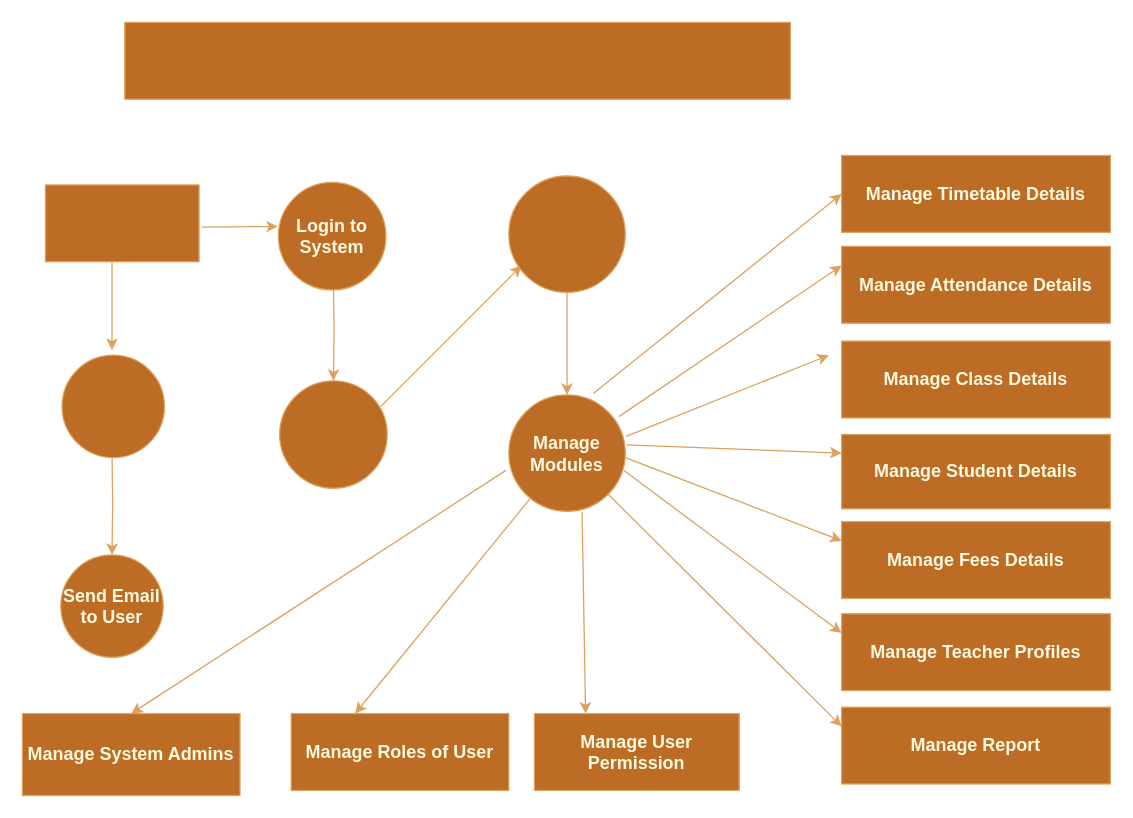
The diagram is 1133 pixels wide and 818 high, and some of its shapes have lost their labels. The shapes that lost their labels are listed below. From the top down, each one's centre as x and y in pixels, then its label:
the point at 457,60: Student Information System
the point at 121,223: Admin
the point at 566,233: Check Roles of Acces
the point at 112,406: Forget Password
the point at 332,434: Check Credentials
